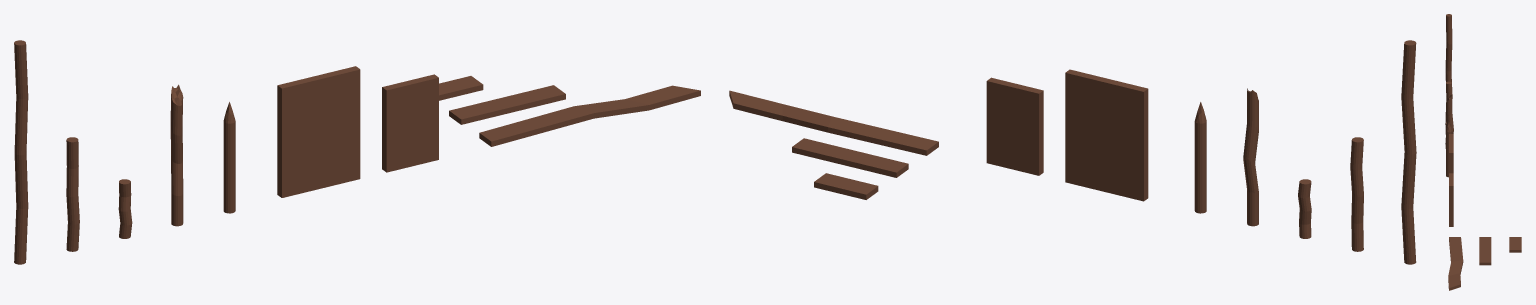
The model's file is SM_A_WoodBuildingKit_03.fbx.
3 renders of one model, left to right at view 1: azimuth 30°, elevation 25°; view 2: azimuth 150°, elevation 25°; view 3: azimuth 270°, elevation 25°, orthographic. The views are drawn at different scales.
Visible parts, largest first — view 1: SM_A_StickBoard_Large_01, SM_A_StickBoard_Medium_01, SM_A_Plank_Large_01, SM_A_WoodenBeam_Tall_01, SM_A_Plank_Medium_01, SM_A_WoodenBeam_Broken_01, SM_A_WoodenBeam_Medium_01, SM_A_WoodenBeam_Sharpened_01, SM_A_WoodenBeam_Short_01, SM_A_Plank_Small_01; view 2: SM_A_StickBoard_Large_01, SM_A_StickBoard_Medium_01, SM_A_Plank_Large_01, SM_A_WoodenBeam_Tall_01, SM_A_Plank_Medium_01, SM_A_WoodenBeam_Broken_01, SM_A_WoodenBeam_Medium_01, SM_A_WoodenBeam_Sharpened_01, SM_A_Plank_Small_01, SM_A_WoodenBeam_Short_01; view 3: SM_A_Plank_Large_01, SM_A_WoodenBeam_Tall_01, SM_A_Plank_Medium_01, SM_A_StickBoard_Medium_01, SM_A_WoodenBeam_Broken_01, SM_A_Plank_Small_01, SM_A_StickBoard_Large_01, SM_A_WoodenBeam_Sharpened_01, SM_A_WoodenBeam_Medium_01.
Part boxes in pixels (<box>): SM_A_StickBoard_Large_01: <box>277,66,360,197</box>; SM_A_StickBoard_Medium_01: <box>382,74,438,172</box>; SM_A_Plank_Large_01: <box>479,85,700,146</box>; SM_A_WoodenBeam_Tall_01: <box>14,40,28,264</box>; SM_A_Plank_Medium_01: <box>449,85,565,124</box>; SM_A_WoodenBeam_Broken_01: <box>170,84,183,226</box>; SM_A_WoodenBeam_Medium_01: <box>66,137,79,251</box>; SM_A_WoodenBeam_Sharpened_01: <box>223,102,235,213</box>; SM_A_WoodenBeam_Short_01: <box>118,179,132,238</box>; SM_A_Plank_Small_01: <box>439,76,483,100</box>; SM_A_StickBoard_Large_01: <box>1065,69,1148,201</box>; SM_A_StickBoard_Medium_01: <box>986,77,1043,175</box>; SM_A_Plank_Large_01: <box>729,90,938,155</box>; SM_A_WoodenBeam_Tall_01: <box>1401,40,1416,264</box>; SM_A_Plank_Medium_01: <box>792,138,908,177</box>; SM_A_WoodenBeam_Broken_01: <box>1243,88,1258,226</box>; SM_A_WoodenBeam_Medium_01: <box>1350,137,1363,251</box>; SM_A_WoodenBeam_Sharpened_01: <box>1194,102,1206,213</box>; SM_A_Plank_Small_01: <box>814,173,878,199</box>; SM_A_WoodenBeam_Short_01: <box>1298,179,1311,238</box>; SM_A_Plank_Large_01: <box>1448,237,1463,290</box>; SM_A_WoodenBeam_Tall_01: <box>1445,14,1452,97</box>; SM_A_Plank_Medium_01: <box>1479,237,1491,265</box>; SM_A_StickBoard_Medium_01: <box>1449,173,1453,226</box>; SM_A_WoodenBeam_Broken_01: <box>1446,95,1453,133</box>; SM_A_Plank_Small_01: <box>1509,237,1521,252</box>; SM_A_StickBoard_Large_01: <box>1449,134,1453,173</box>; SM_A_WoodenBeam_Sharpened_01: <box>1446,122,1451,177</box>; SM_A_WoodenBeam_Medium_01: <box>1445,81,1452,134</box>.
Bounding box in the file's own units: 1310 × 252 × 402.
